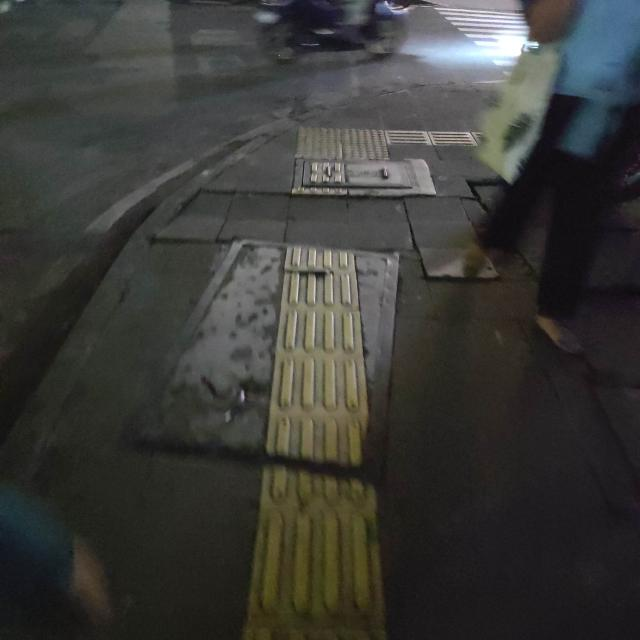kanan: (266, 104, 480, 193)
